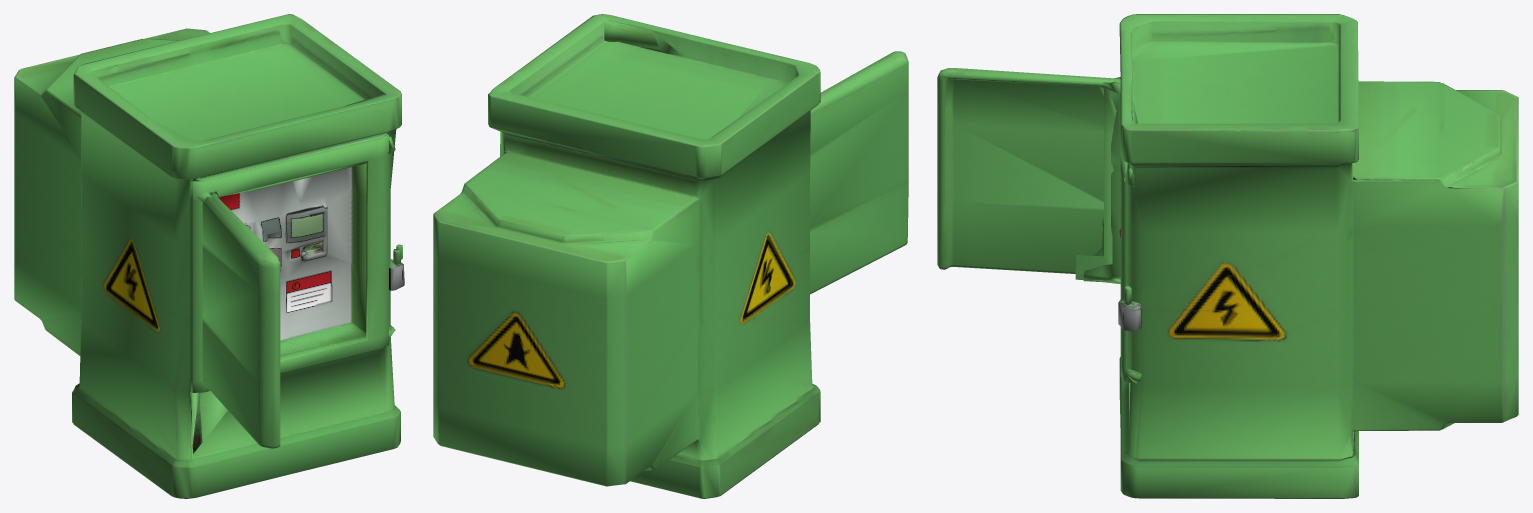
The model's file is Meshy_AI_Open_Green_Electrical_0426215816_texture.fbx.
3 views of the same model, side by side, from view 1: azimuth 30°, elevation 25°; view 2: azimuth 150°, elevation 25°; view 3: azimuth 270°, elevation 25° (orthographic). The views are drawn at different scales.
Visible parts, largest first — view 1: Mesh_0; view 2: Mesh_0; view 3: Mesh_0.
Boxes of the visible parts, <box> form: Mesh_0: <box>14,14,404,498</box>; Mesh_0: <box>433,14,908,498</box>; Mesh_0: <box>937,14,1518,498</box>.
Size of the model in its own units: 91.19 by 133 by 191.
Materials: 1 (1 with a texture image).
